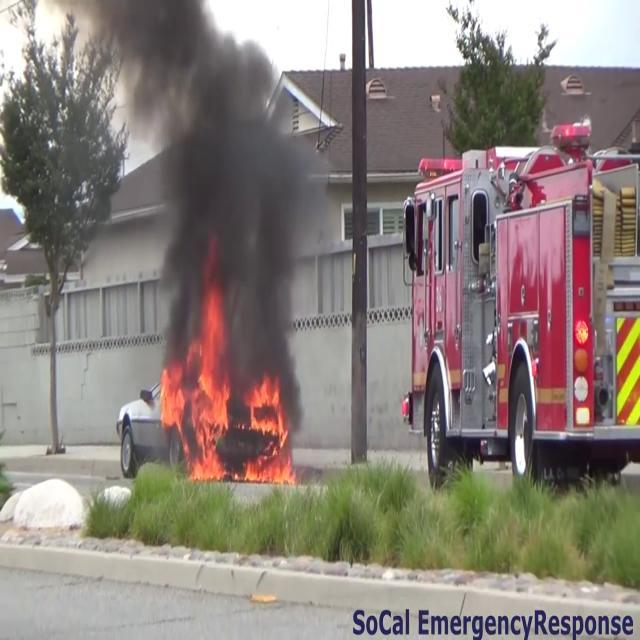Fire: (158, 296, 294, 492)
Smoke: (130, 0, 327, 388)
